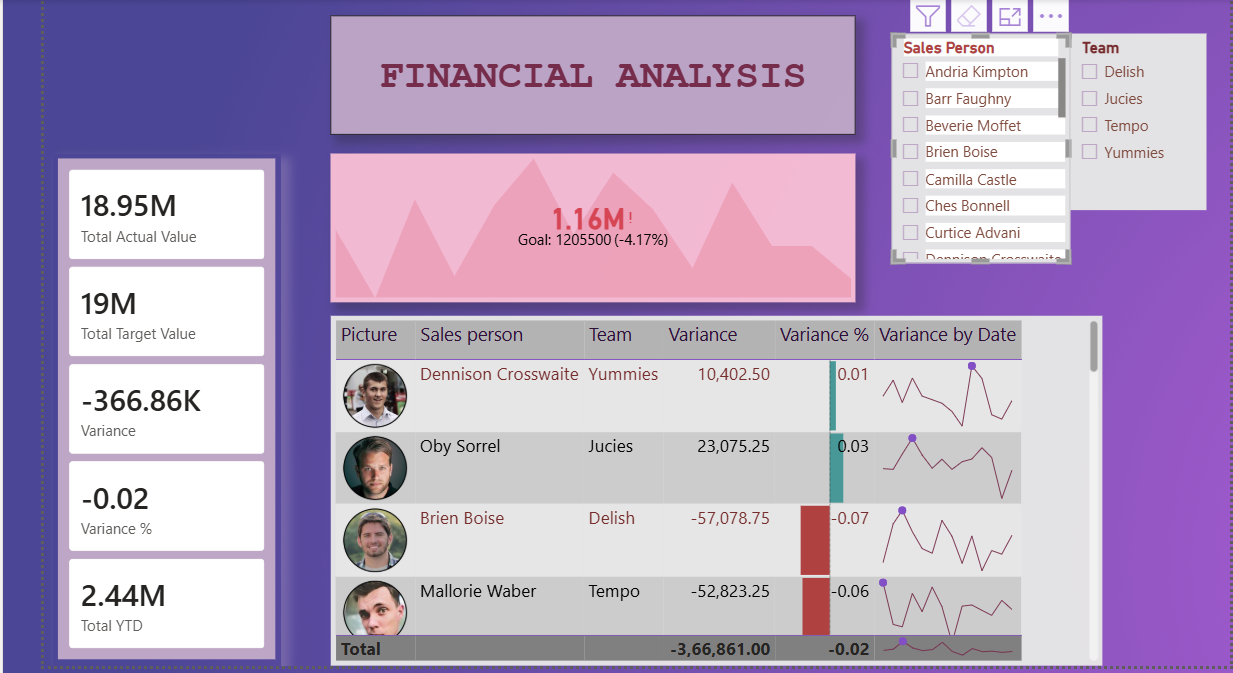

What the dashboard file says about the page in this screenshot:
{"tool":"powerbi","page":{"name":"Page 1","canvas":[1280,720],"ordinal":0},"visuals":[{"type":"textbox","box":[309.9,17,566.9,128.5],"z":0},{"type":"cardVisual","fields":{"Data":["DAX MEASURES.Total Actual Value","DAX MEASURES.Total Target Value","DAX MEASURES.Variance","DAX MEASURES.Variance %","DAX MEASURES.Total YTD"]},"box":[9.4,166.3,245.7,553.7],"z":1000},{"type":"kpi","fields":{"Indicator":["DAX MEASURES.Total Actual Value"],"Goal":["DAX MEASURES.Total Target Value"],"TrendLine":["Calendar.Date"]},"box":[309.9,166.3,566.9,160.6],"z":2000},{"type":"slicer","fields":{"Values":["Actual.Sales Person"]},"box":[914.7,37.8,192.8,247.6],"z":3000},{"type":"slicer","fields":{"Values":["dimPeople.Team"]},"box":[1107.4,37.8,147.4,190.9],"z":4000},{"type":"tableEx","fields":{"Values":["dimPeople.Picture","dimPeople.Sales person","dimPeople.Team","DAX MEASURES.Variance","DAX MEASURES.Variance %","SparklineData(DAX MEASURES.Variance_[Calendar.Date])"]},"box":[309.9,342,833.4,378],"z":5000}]}

Visuals, with their boxes in screenshot pixels (x1, y1, x2, y2):
textbox: select_region(328, 12, 852, 131)
cardVisual - DAX MEASURES.Total Actual Value x DAX MEASURES.Total Target Value: select_region(50, 150, 277, 662)
kpi - DAX MEASURES.Total Actual Value x DAX MEASURES.Total Target Value: select_region(328, 150, 852, 299)
slicer - Actual.Sales Person: select_region(887, 32, 1065, 260)
slicer - dimPeople.Team: select_region(1065, 32, 1201, 208)
tableEx - dimPeople.Picture x dimPeople.Sales person: select_region(328, 313, 1098, 662)
